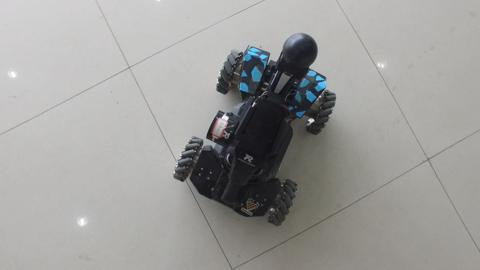chariot: (180, 22, 338, 226)
